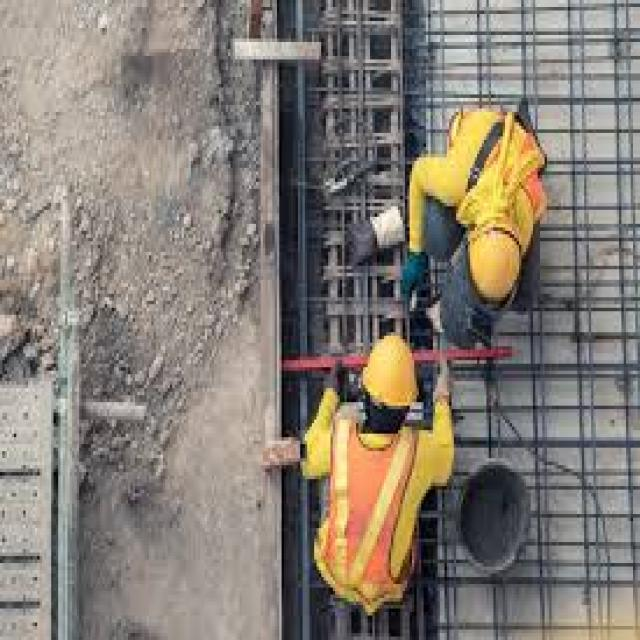Reflective-Jacket: (312, 416, 428, 602)
Safety-Helmet: (352, 325, 428, 420), (458, 214, 530, 312)
